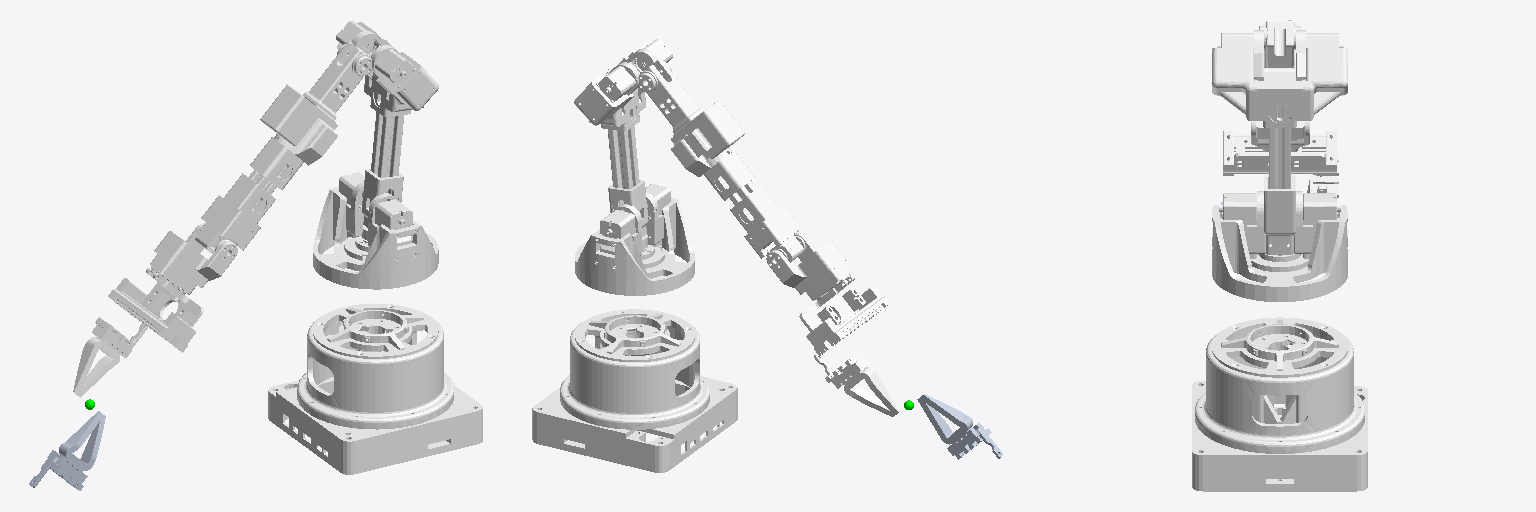
URDF robot description (alicia_duo_descriptions):
<?xml version="1.0" encoding="utf-8"?>
<!-- This URDF was automatically created by SolidWorks to URDF Exporter! Originally created by [author] ([email redacted]) 
     Commit Version: 1.6.0-4-g7f85cfe  Build Version: 1.6.7995.38578
     For more information, please see http://wiki.ros.org/sw_urdf_exporter -->
<robot
  name="alicia_duo_descriptions">
  <mujoco>
    <compiler meshdir="../meshes" balanceinertia="true"  discardvisual="false" />
  </mujoco>
  <link
    name="base_link">
    <visual>
      <origin
        xyz="0 0 0"
        rpy="0 0 0" />
      <geometry>
        <mesh
          filename="package://alicia_duo_descriptions/meshes/base_link.STL" />
      </geometry>
      <material
        name="">
        <color
          rgba="1 1 1 1" />
      </material>
    </visual>
    <collision>
      <origin
        xyz="0 0 0"
        rpy="0 0 0" />
      <geometry>
        <mesh
          filename="package://alicia_duo_descriptions/meshes/base_link.STL" />
      </geometry>
    </collision>
  </link>
  <link
    name="Link1">
    <inertial>
      <origin
        xyz="-6.25858197295685E-05 7.92213122987762E-05 -0.0125707541315971"
        rpy="0 0 0" />
      <mass
        value="0.203075737500143" />
      <inertia
        ixx="0.000235905198022555"
        ixy="7.61837858539045E-07"
        ixz="-2.9280595447193E-07"
        iyy="0.000131461412426022"
        iyz="-9.88206643610389E-07"
        izz="0.000304852104532108" />
    </inertial>
    <visual>
      <origin
        xyz="0 0 0"
        rpy="0 0 0" />
      <geometry>
        <mesh
          filename="package://alicia_duo_descriptions/meshes/Link1.STL" />
      </geometry>
      <material
        name="">
        <color
          rgba="1 1 1 1" />
      </material>
    </visual>
    <collision>
      <origin
        xyz="0 0 0"
        rpy="0 0 0" />
      <geometry>
        <mesh
          filename="package://alicia_duo_descriptions/meshes/Link1.STL" />
      </geometry>
    </collision>
  </link>
  <joint
    name="Joint1"
    type="revolute">
    <origin
      xyz="0 0 0.1445"
      rpy="0 0 0" />
    <parent
      link="base_link" />
    <child
      link="Link1" />
    <axis
      xyz="0 0 1" />
    <limit
      lower="-2.16"
      upper="2.16"
      effort="12"
      velocity="5" />
  </joint>
  <link
    name="Link2">
    <inertial>
      <origin
        xyz="0.152520863780152 0.00121050175643325 -2.60950688970463E-05"
        rpy="0 0 0" />
      <mass
        value="0.228750683078605" />
      <inertia
        ixx="0.000128107393781261"
        ixy="-1.13054976540084E-06"
        ixz="-3.12979772835143E-06"
        iyy="0.000222403637398375"
        iyz="1.86391232896856E-08"
        izz="0.000138515787941709" />
    </inertial>
    <visual>
      <origin
        xyz="0 0 0"
        rpy="0 0 0" />
      <geometry>
        <mesh
          filename="package://alicia_duo_descriptions/meshes/Link2.STL" />
      </geometry>
      <material
        name="">
        <color
          rgba="1 1 1 1" />
      </material>
    </visual>
    <collision>
      <origin
        xyz="0 0 0"
        rpy="0 0 0" />
      <geometry>
        <mesh
          filename="package://alicia_duo_descriptions/meshes/Link2.STL" />
      </geometry>
    </collision>
  </link>
  <joint
    name="Joint2"
    type="revolute">
    <origin
      xyz="0 0 0.025106"
      rpy="1.5708 -1.5708 0" />
    <parent
      link="Link1" />
    <child
      link="Link2" />
    <axis
      xyz="0 0 -1" />
    <limit
      lower="-3.14"
      upper="3.14"
      effort="12"
      velocity="5" />
  </joint>
  <link
    name="Link3">
    <inertial>
      <origin
        xyz="0.05912098865161 -0.00292884026418549 -0.000206870084897278"
        rpy="0 0 0" />
      <mass
        value="0.0902084989642731" />
      <inertia
        ixx="2.95841837376625E-05"
        ixy="2.18437703523349E-06"
        ixz="5.1039314115162E-06"
        iyy="7.14586965989716E-05"
        iyz="-3.76178023735153E-07"
        izz="7.59377961316667E-05" />
    </inertial>
    <visual>
      <origin
        xyz="0 0 0"
        rpy="0 0 0" />
      <geometry>
        <mesh
          filename="package://alicia_duo_descriptions/meshes/Link3.STL" />
      </geometry>
      <material
        name="">
        <color
          rgba="1 1 1 1" />
      </material>
    </visual>
    <collision>
      <origin
        xyz="0 0 0"
        rpy="0 0 0" />
      <geometry>
        <mesh
          filename="package://alicia_duo_descriptions/meshes/Link3.STL" />
      </geometry>
    </collision>
  </link>
  <joint
    name="Joint3"
    type="revolute">
    <origin
      xyz="0.22367 0.022494 -5E-05"
      rpy="0 0 2.3562" />
    <parent
      link="Link2" />
    <child
      link="Link3" />
    <axis
      xyz="0 0 -1" />
    <limit
      lower="-3.14"
      upper="3.14"
      effort="12"
      velocity="5" />
  </joint>
  <link
    name="Link4">
    <inertial>
      <origin
        xyz="-0.000205267063245973 0.000325243129580035 0.0643235983472444"
        rpy="0 0 0" />
      <mass
        value="0.0791974889780253" />
      <inertia
        ixx="2.47725339125505E-05"
        ixy="3.55587182995024E-10"
        ixz="7.3334971760673E-08"
        iyy="2.46627995216068E-05"
        iyz="-3.46992272423732E-07"
        izz="1.52344176742998E-05" />
    </inertial>
    <visual>
      <origin
        xyz="0 0 0"
        rpy="0 0 0" />
      <geometry>
        <mesh
          filename="package://alicia_duo_descriptions/meshes/Link4.STL" />
      </geometry>
      <material
        name="">
        <color
          rgba="1 1 1 1" />
      </material>
    </visual>
    <collision>
      <origin
        xyz="0 0 0"
        rpy="0 0 0" />
      <geometry>
        <mesh
          filename="package://alicia_duo_descriptions/meshes/Link4.STL" />
      </geometry>
    </collision>
  </link>
  <joint
    name="Joint4"
    type="revolute">
    <origin
      xyz="0.0988 0.00211 -0.0001"
      rpy="1.5708 0 1.5708" />
    <parent
      link="Link3" />
    <child
      link="Link4" />
    <axis
      xyz="0 0 -1" />
    <limit
      lower="-3.14"
      upper="3.14"
      effort="12"
      velocity="5" />
  </joint>
  <link
    name="Link5">
    <inertial>
      <origin
        xyz="-0.0151916000802023 -0.035577609744867 0.00100363196557324"
        rpy="0 0 0" />
      <mass
        value="0.0472226666291309" />
      <inertia
        ixx="1.20278315375537E-05"
        ixy="-1.17970471503373E-06"
        ixz="-1.02456210599242E-07"
        iyy="1.88455470481329E-05"
        iyz="-1.61484723405352E-07"
        izz="1.40563866814419E-05" />
    </inertial>
    <visual>
      <origin
        xyz="0 0 0"
        rpy="0 0 0" />
      <geometry>
        <mesh
          filename="package://alicia_duo_descriptions/meshes/Link5.STL" />
      </geometry>
      <material
        name="">
        <color
          rgba="1 1 1 1" />
      </material>
    </visual>
    <collision>
      <origin
        xyz="0 0 0"
        rpy="0 0 0" />
      <geometry>
        <mesh
          filename="package://alicia_duo_descriptions/meshes/Link5.STL" />
      </geometry>
    </collision>
  </link>
  <joint
    name="Joint5"
    type="revolute">
    <origin
      xyz="0 -0.0007 0.12011"
      rpy="-1.5708 0 0" />
    <parent
      link="Link4" />
    <child
      link="Link5" />
    <axis
      xyz="0 0 -1" />
    <limit
      lower="-3.14"
      upper="3.14"
      effort="12"
      velocity="5" />
  </joint>
  <link
    name="Link6">
    <inertial>
      <origin
        xyz="-2.29000106100052E-08 -6.06077605290467E-09 -0.00146273730918529"
        rpy="0 0 0" />
      <mass
        value="0.000754043064008528" />
      <inertia
        ixx="1.92362324543726E-08"
        ixy="2.02419408834135E-13"
        ixz="1.54264012087565E-14"
        iyy="1.92356438139941E-08"
        iyz="3.66078536787572E-15"
        izz="3.70116466604047E-08" />
    </inertial>
    <visual>
      <origin
        xyz="0 0 0"
        rpy="0 0 0" />
      <geometry>
        <mesh
          filename="package://alicia_duo_descriptions/meshes/Link6.STL" />
      </geometry>
      <material
        name="">
        <color
          rgba="1 1 1 1" />
      </material>
    </visual>
    <collision>
      <origin
        xyz="0 0 0"
        rpy="0 0 0" />
      <geometry>
        <mesh
          filename="package://alicia_duo_descriptions/meshes/Link6.STL" />
      </geometry>
    </collision>
  </link>
  <joint
    name="Joint6"
    type="revolute">
    <origin
      xyz="-0.0038938 -0.0573 0.0008"
      rpy="1.5708 0 0" />
    <parent
      link="Link5" />
    <child
      link="Link6" />
    <axis
      xyz="0 0 -1" />
    <limit
      lower="-3.14"
      upper="3.14"
      effort="12"
      velocity="5" />
  </joint>
  <link
    name="Grasp_base">
    <inertial>
      <origin
        xyz="-0.01841113801577 0.000862734870750302 0.0339710264842798"
        rpy="0 0 0" />
      <mass
        value="0.13604884360545" />
      <inertia
        ixx="7.27853781685838E-05"
        ixy="3.41504362452082E-08"
        ixz="1.60963274946906E-06"
        iyy="2.99495582533924E-05"
        iyz="9.99190740884026E-07"
        izz="7.95564628246971E-05" />
    </inertial>
    <visual>
      <origin
        xyz="0 0 0"
        rpy="0 0 0" />
      <geometry>
        <mesh
          filename="package://alicia_duo_descriptions/meshes/Grasp_base.STL" />
      </geometry>
      <material
        name="">
        <color
          rgba="1 1 1 1" />
      </material>
    </visual>
    <collision>
      <origin
        xyz="0 0 0"
        rpy="0 0 0" />
      <geometry>
        <mesh
          filename="package://alicia_duo_descriptions/meshes/Grasp_base.STL" />
      </geometry>
    </collision>
  </link>
  <joint
    name="Joint6_to_gripper_base"
    type="fixed">
    <origin
      xyz="0 0 0"
      rpy="0 0 0" />
    <parent
      link="Link6" />
    <child
      link="Grasp_base" />
    <axis
      xyz="0 0 0" />
  </joint>
  <link
    name="Link7">
    <inertial>
      <origin
        xyz="0.00110740859468716 -0.0505406087264605 0.00928374528946711"
        rpy="0 0 0" />
      <mass
        value="0.0243492837152759" />
      <inertia
        ixx="9.48475810350875E-06"
        ixy="1.12616534990615E-06"
        ixz="-1.29347870071083E-07"
        iyy="4.30364201605636E-06"
        iyz="1.0784812114242E-06"
        izz="1.21997143402446E-05" />
    </inertial>
    <visual>
      <origin
        xyz="0 0 0"
        rpy="0 0 0" />
      <geometry>
        <mesh
          filename="package://alicia_duo_descriptions/meshes/Link7.STL" />
      </geometry>
      <material
        name="">
        <color
          rgba="1 1 1 1" />
      </material>
    </visual>
    <collision>
      <origin
        xyz="0 0 0"
        rpy="0 0 0" />
      <geometry>
        <mesh
          filename="package://alicia_duo_descriptions/meshes/Link7.STL" />
      </geometry>
    </collision>
  </link>
  <joint
    name="left_finger"
    type="prismatic">
    <origin
      xyz="0.00275 -0.025 0.13779"
      rpy="1.5451 0 0" />
    <parent
      link="Grasp_base" />
    <child
      link="Link7" />
    <axis
      xyz="0 0 0" />
    <limit
      lower="-0.0125"
      upper="0"
      effort="5"
      velocity="10" />
  </joint>
  <link
    name="Link8">
    <inertial>
      <origin
        xyz="0.00109597192005223 0.0498868509472224 0.0118634588904307"
        rpy="0 0 0" />
      <mass
        value="0.0243228050977196" />
      <inertia
        ixx="9.45357028936119E-06"
        ixy="-1.11057133705082E-06"
        ixz="-1.85645517199125E-07"
        iyy="4.42974962436958E-06"
        iyz="-1.4734381267566E-06"
        izz="1.20341513240267E-05" />
    </inertial>
    <visual>
      <origin
        xyz="0 0 0"
        rpy="0 0 0" />
      <geometry>
        <mesh
          filename="package://alicia_duo_descriptions/meshes/Link8.STL" />
      </geometry>
      <material
        name="">
        <color
          rgba="0.807843137254902 0.843137254901961 0.905882352941176 1" />
      </material>
    </visual>
    <collision>
      <origin
        xyz="0 0 0"
        rpy="0 0 0" />
      <geometry>
        <mesh
          filename="package://alicia_duo_descriptions/meshes/Link8.STL" />
      </geometry>
    </collision>
  </link>
  <joint
    name="right_finger"
    type="prismatic">
    <origin
      xyz="0.00275 0.025 0.13768"
      rpy="-1.5965 0 0" />
    <parent
      link="Grasp_base" />
    <child
      link="Link8" />
    <axis
      xyz="0 0 0" />
    <limit
      lower="0"
      upper="0.0125"
      effort="5"
      velocity="10" />
    <mimic joint="left_finger" multiplier="-1" offset="0"/>

  </joint>
  <link
    name="tool0">
    <visual>
      <origin
        xyz="0 0 0" 
        rpy="0 0 0" />
      <geometry>
        <sphere radius="0.005" /> <!-- 定义一个半径为0.02米的小球体 -->
      </geometry>
      <material
        name="green_virtual_sphere_material"> <!-- 可以给材质起个名字 -->
        <color
          rgba="0 1 0 1" /> <!-- 绿色 (R G B A)，A为1表示不透明 -->
      </material>
    </visual>
  </link>
  <joint
    name="Grasp2tool"
    type="fixed">
    <origin
      xyz="0.00275 0.0008332 0.13779"
      rpy="0 0 0" />
    <parent
      link="Grasp_base" />
    <child
      link="tool0" />
    <axis
      xyz="0 0 0" />
  </joint>
</robot>

--- What the picture shows (computed from the rendered views, not written in the file) ---
3 views of the same robot in one strip: view 1: azimuth 30°, elevation 25°; view 2: azimuth 150°, elevation 25°; view 3: azimuth 270°, elevation 25° (orthographic).
Model alicia_duo_descriptions with 11 links and 10 joints (6 revolute, 2 prismatic, 2 fixed), rooted at base_link, posed every joint at zero.
Visible links, largest first — view 1: base_link, Link1, Link2, Link3, Link4, Grasp_base, Link5, Link8, Link7; view 2: base_link, Link1, Link2, Link3, Link4, Grasp_base, Link5, Link8, Link7; view 3: base_link, Link2, Link1, Grasp_base, Link3, Link7.
Link boxes in pixels (x1,y1,x2,y2): base_link: (268, 303, 482, 474); Link1: (313, 172, 438, 289); Link2: (336, 20, 438, 237); Link3: (260, 41, 371, 165); Link4: (195, 137, 303, 253); Grasp_base: (108, 267, 203, 352); Link5: (150, 223, 237, 294); Link8: (29, 411, 105, 490); Link7: (73, 317, 147, 397); base_link: (532, 309, 737, 472); Link1: (575, 184, 694, 295); Link2: (574, 39, 672, 236); Link3: (638, 59, 744, 176); Link4: (703, 151, 805, 262); Grasp_base: (799, 275, 890, 356); Link5: (766, 233, 850, 300); Link8: (917, 394, 1002, 459); Link7: (814, 352, 899, 416); base_link: (1192, 317, 1367, 491); Link2: (1212, 30, 1347, 255); Link1: (1212, 191, 1347, 301); Grasp_base: (1223, 131, 1336, 175); Link3: (1259, 20, 1300, 67); Link7: (1307, 156, 1338, 197).
Bounding box of the posed robot: 0.4783 × 0.155 × 0.4093 m (x, y, z).
10 mesh visuals loaded from 10 distinct referenced files (10 binary STL).
